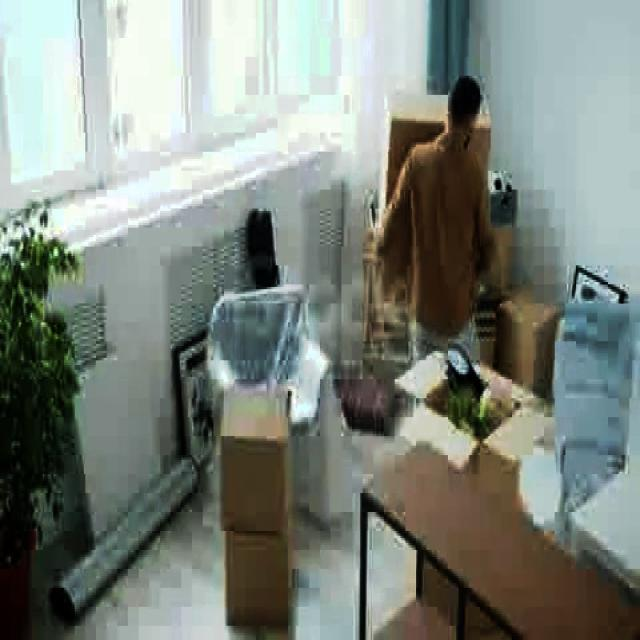Box: (221, 384, 292, 524), (223, 526, 289, 614)
